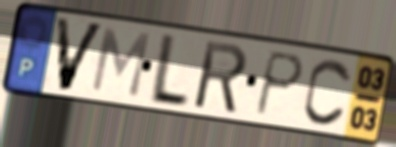C: (301, 56, 355, 129)
L: (144, 32, 193, 111)
M: (87, 25, 153, 101)
P: (251, 48, 307, 119)
R: (193, 38, 250, 117)
V: (53, 14, 108, 94)
